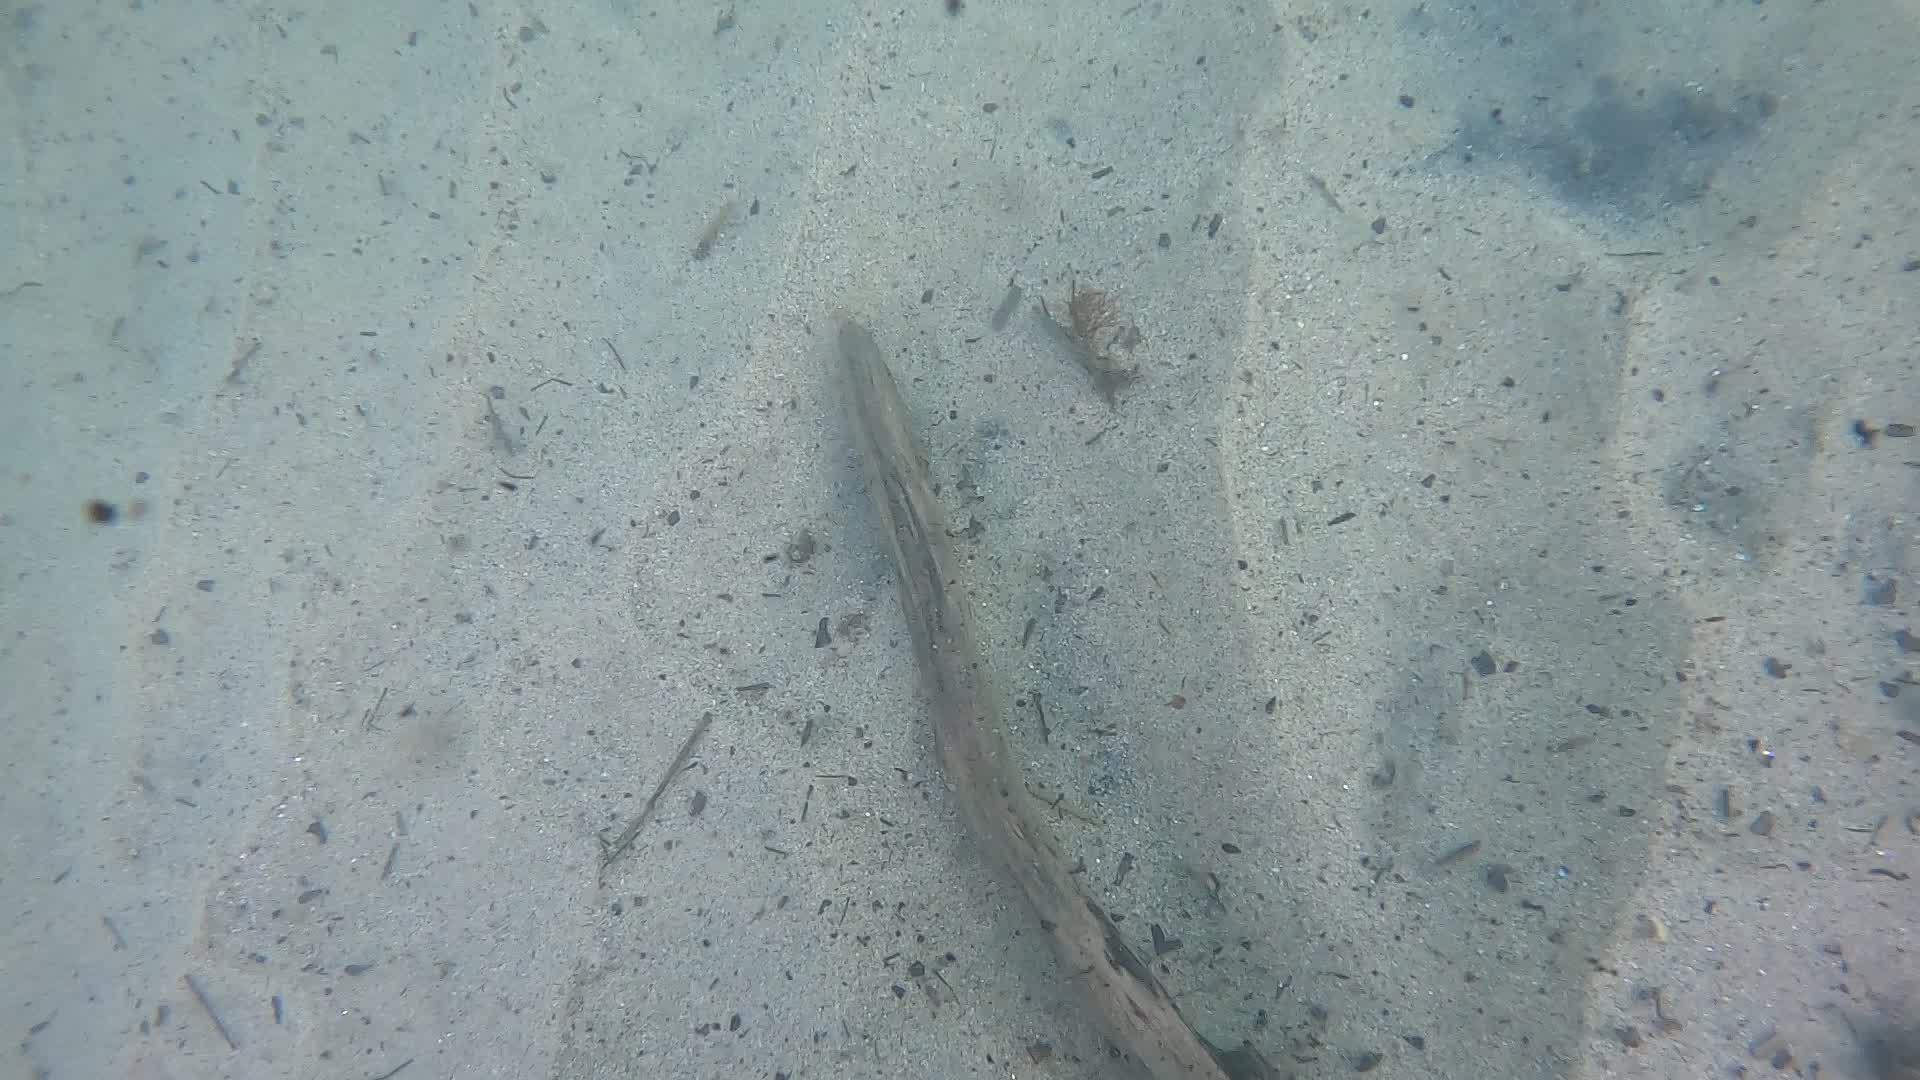wood: (833, 319, 1238, 1080)
